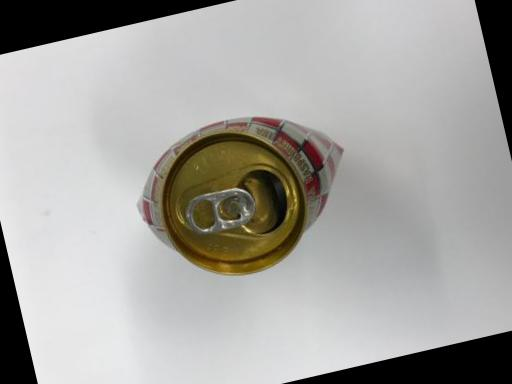metal: (94, 65, 405, 318)
